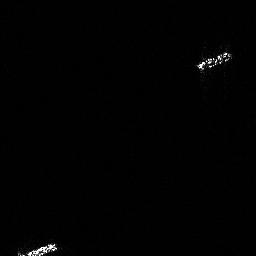ship: (198, 51, 229, 71), (20, 243, 57, 256)
